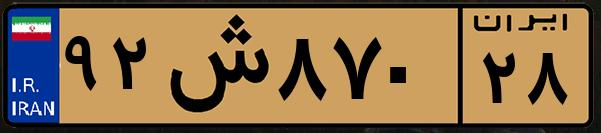0: (385, 28, 445, 110)
2: (475, 38, 525, 113), (110, 28, 158, 98)
7: (330, 28, 385, 110)
8: (270, 28, 330, 110), (525, 38, 570, 115)
9: (57, 26, 110, 100)
ش: (158, 12, 270, 120)
